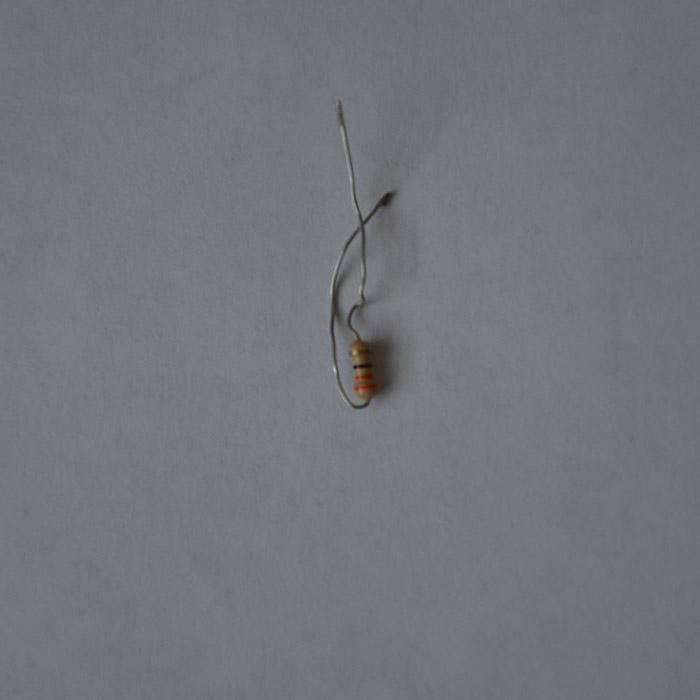resistor: (347, 340, 376, 399)
